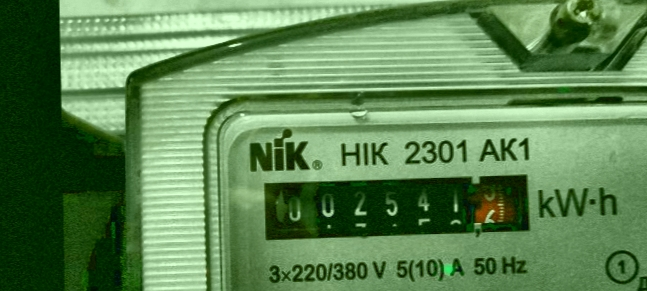0: (317, 188, 337, 222), (286, 195, 304, 224)
1: (445, 183, 462, 216)
2: (348, 187, 370, 221)
4: (414, 184, 432, 216)
5: (382, 188, 399, 220)
6: (481, 206, 497, 228)
screen: (249, 161, 551, 257)
